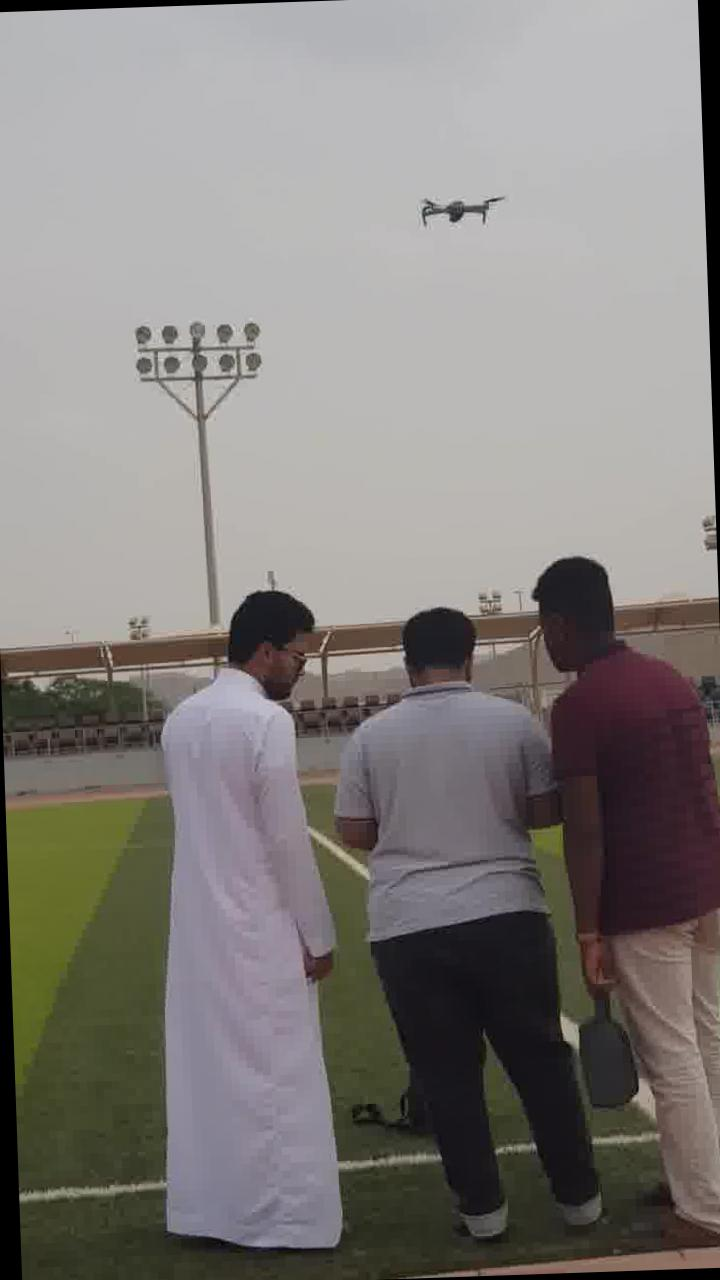drone: (410, 182, 510, 230)
